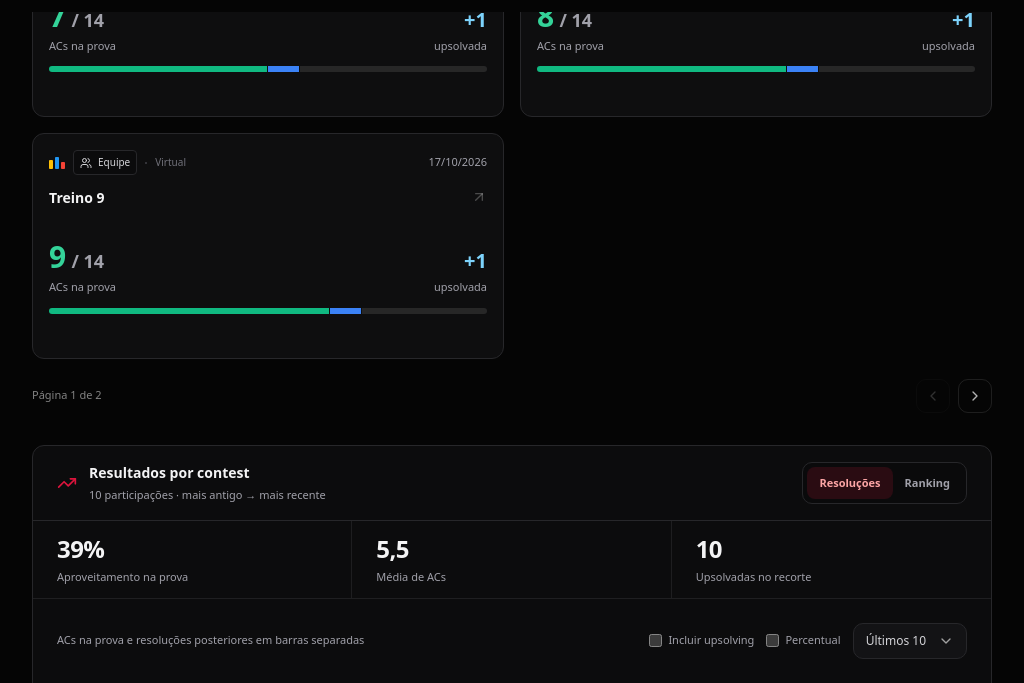
Scenario: pagina os cards mas mantém indicadores e evolução de todo o recorte
(page scrolled)
Click the button named "Próxima página": click(975, 396) [958,378,992,412]
(page scrolled)
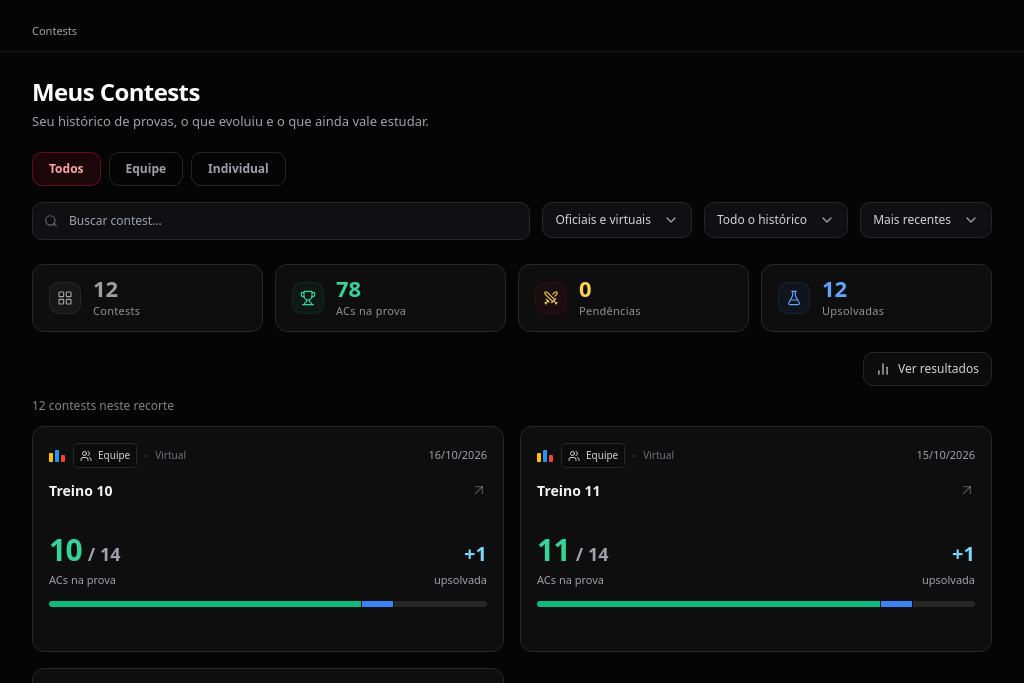
Expected: the element with test id "metric-contests" shows "12", [93,272,118,302]
